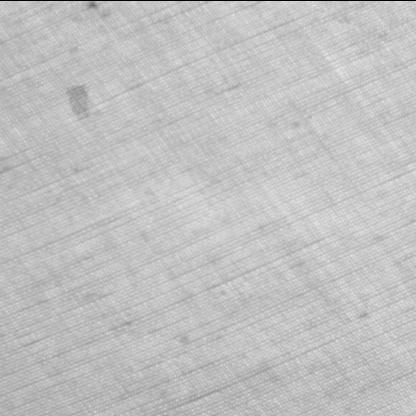oil spot: (65, 82, 93, 119)
